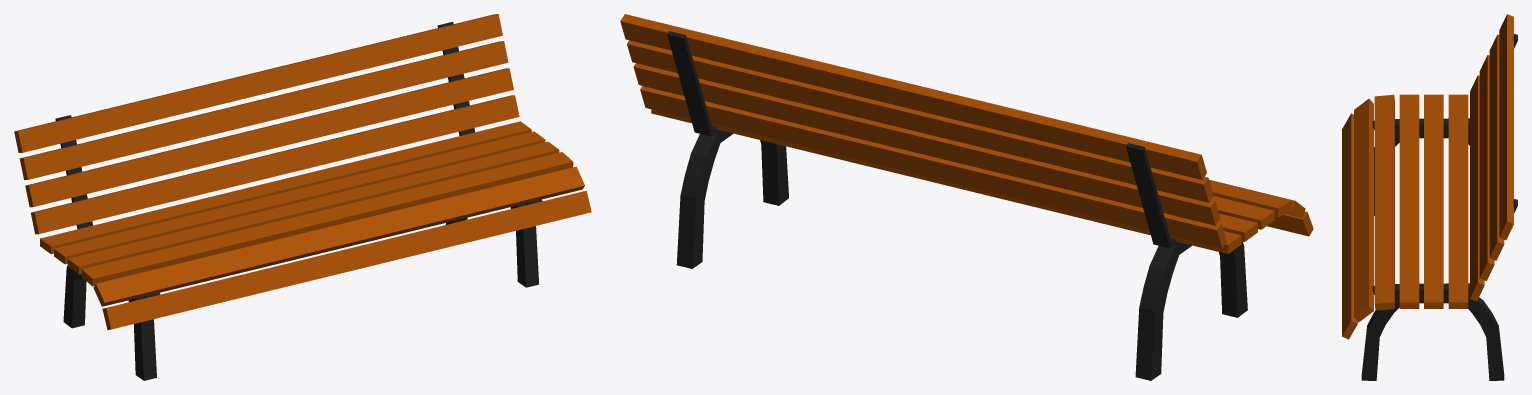
Rendered from bench_07.fbx.
3 renders of one model, left to right at view 1: azimuth 30°, elevation 25°; view 2: azimuth 150°, elevation 25°; view 3: azimuth 270°, elevation 25°, orthographic. The views are drawn at different scales.
Parts seen in each view (by area): view 1: Куб.007, Куб.018, Куб.017, Куб.015, Куб.016, Куб.019, Куб, Куб.001, Куб.003, Куб.002, Куб.005, Куб.004; view 2: Куб.016, Куб.017, Куб.015, Куб.018, Куб.005, Куб.004, Куб.002, Куб, Куб.001, Куб.019, Куб.003; view 3: Куб.001, Куб.002, Куб, Куб.003, Куб.007, Куб.016, Куб.004, Куб.019, Куб.017, Куб.015, Куб.018, Куб.005.
Boxes of the visible parts, bbox=[...] form: Куб.007: bbox=[93, 166, 584, 306]; Куб.018: bbox=[31, 95, 519, 234]; Куб.017: bbox=[25, 68, 513, 207]; Куб.015: bbox=[19, 41, 508, 180]; Куб.016: bbox=[14, 14, 502, 152]; Куб.019: bbox=[102, 191, 591, 330]; Куб: bbox=[81, 152, 573, 286]; Куб.001: bbox=[67, 141, 559, 274]; Куб.003: bbox=[54, 131, 545, 264]; Куб.002: bbox=[40, 121, 531, 254]; Куб.005: bbox=[55, 115, 160, 380]; Куб.004: bbox=[437, 22, 542, 287]; Куб.016: bbox=[620, 14, 1206, 179]; Куб.017: bbox=[633, 63, 1220, 225]; Куб.015: bbox=[627, 40, 1213, 202]; Куб.018: bbox=[640, 86, 1226, 248]; Куб.005: bbox=[1126, 143, 1247, 380]; Куб.004: bbox=[667, 31, 788, 268]; Куб.002: bbox=[651, 109, 1241, 253]; Куб: bbox=[1209, 181, 1291, 217]; Куб.001: bbox=[1211, 196, 1274, 229]; Куб.019: bbox=[1267, 211, 1313, 236]; Куб.003: bbox=[1218, 213, 1257, 241]; Куб.001: bbox=[1399, 94, 1419, 308]; Куб.002: bbox=[1448, 94, 1468, 308]; Куб: bbox=[1374, 94, 1394, 310]; Куб.003: bbox=[1424, 94, 1443, 308]; Куб.007: bbox=[1354, 99, 1373, 322]; Куб.016: bbox=[1499, 14, 1513, 240]; Куб.004: bbox=[1361, 199, 1517, 380]; Куб.019: bbox=[1342, 113, 1357, 339]; Куб.017: bbox=[1479, 55, 1494, 280]; Куб.015: bbox=[1489, 34, 1504, 260]; Куб.018: bbox=[1470, 75, 1484, 301]; Куб.005: bbox=[1372, 34, 1517, 215].
Bounding box in the file's own units: 256 × 102 × 91.58.
